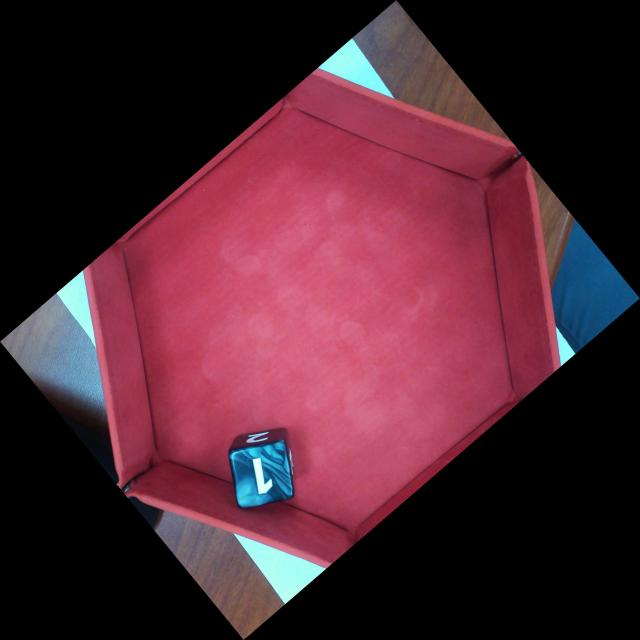dice: (228, 439, 295, 511)
